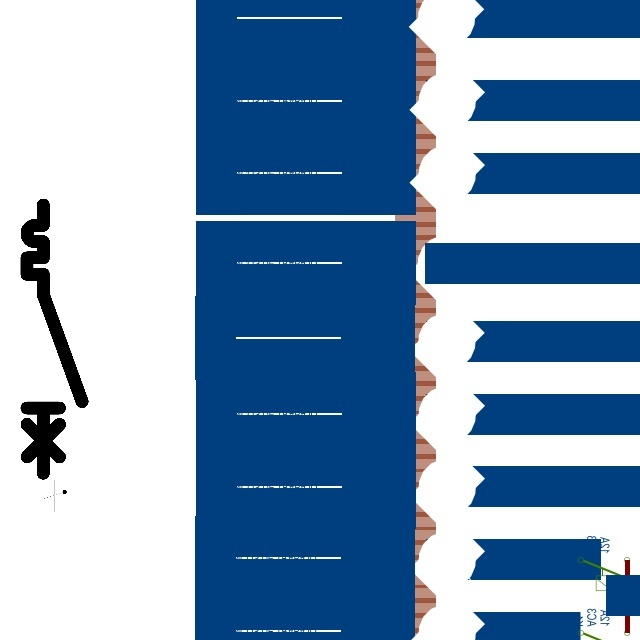interruptor_termomagnetico: (20, 198, 89, 480)
